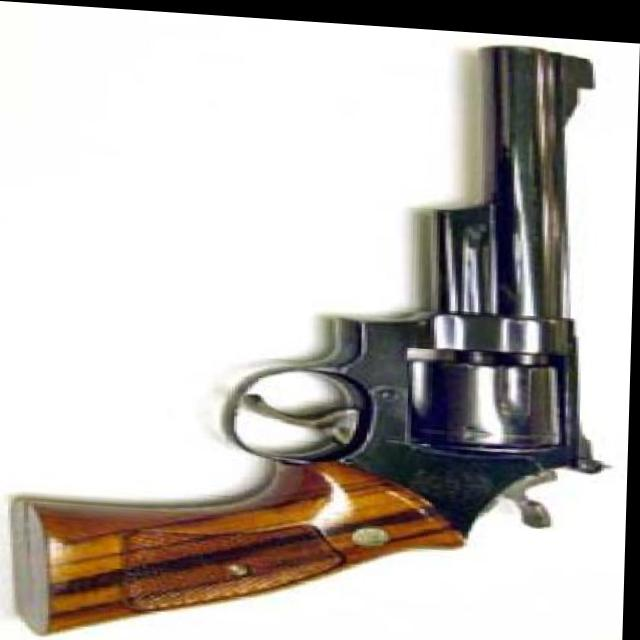handgun: (8, 13, 624, 640)
